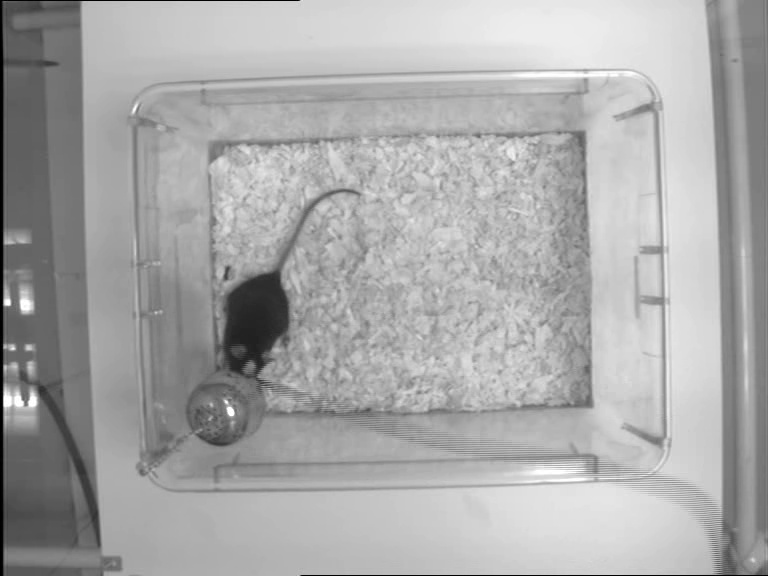mice: (219, 188, 364, 380)
